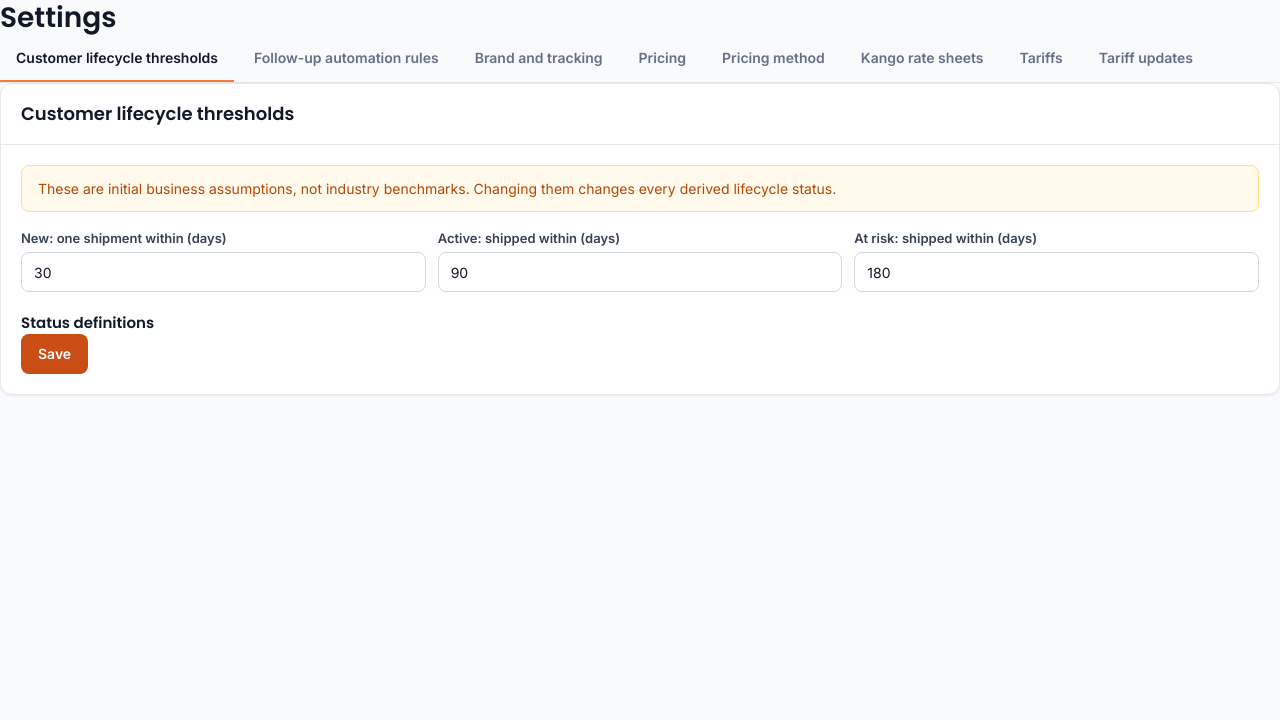
Test case: Settings › Tariff updates › lists rate emails with their status and shows the pending version diff
Expected: the heading "Settings" is shown, [0,0,117,36]
Click the tab "Tariff updates" at [1146, 59], box [1083,36,1209,82]
(page scrolled)
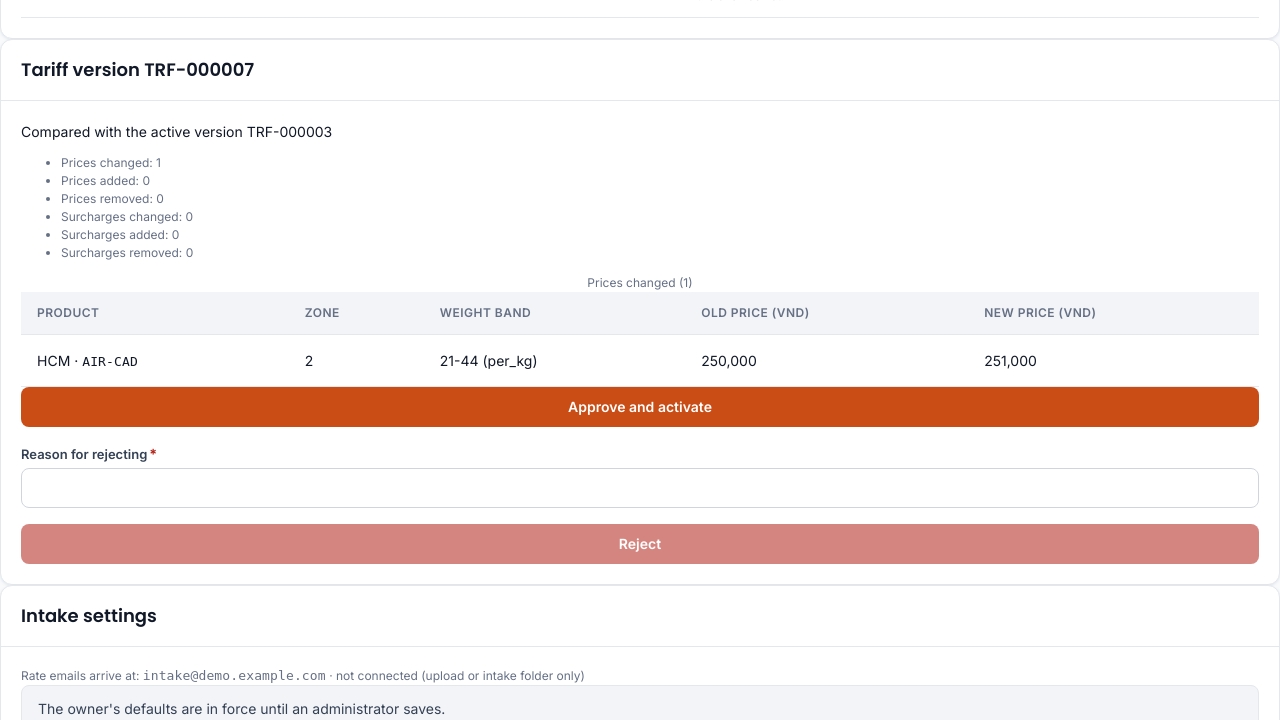
Expected: the text "Compared with the active version TRF-000003" is shown, [21,123,332,140]
Expected: the text "21-44 (per_kg)" is shown, [424,334,685,386]
Expected: the text "250,000" is shown, [685,334,968,386]
